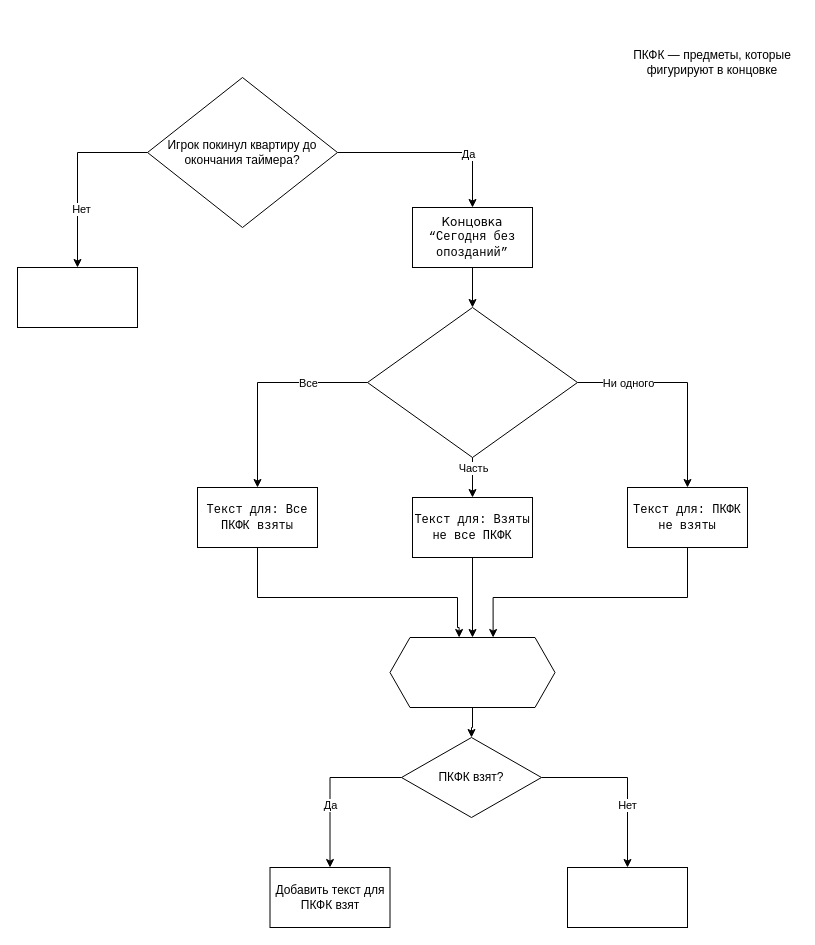
This 815x945 diagram has some shape labels left out. The shapes that lost their labels are listed below. From the top down, each one's centre as x and y in pixels, then its label:
(x=77, y=297): Концовка "Опоздание"
(x=472, y=382): Сколько ПКФК собрал игрок?
(x=472, y=672): Пока счетчик != количество ПКФК
(x=627, y=897): Добавить текст для ПКФК не взят
